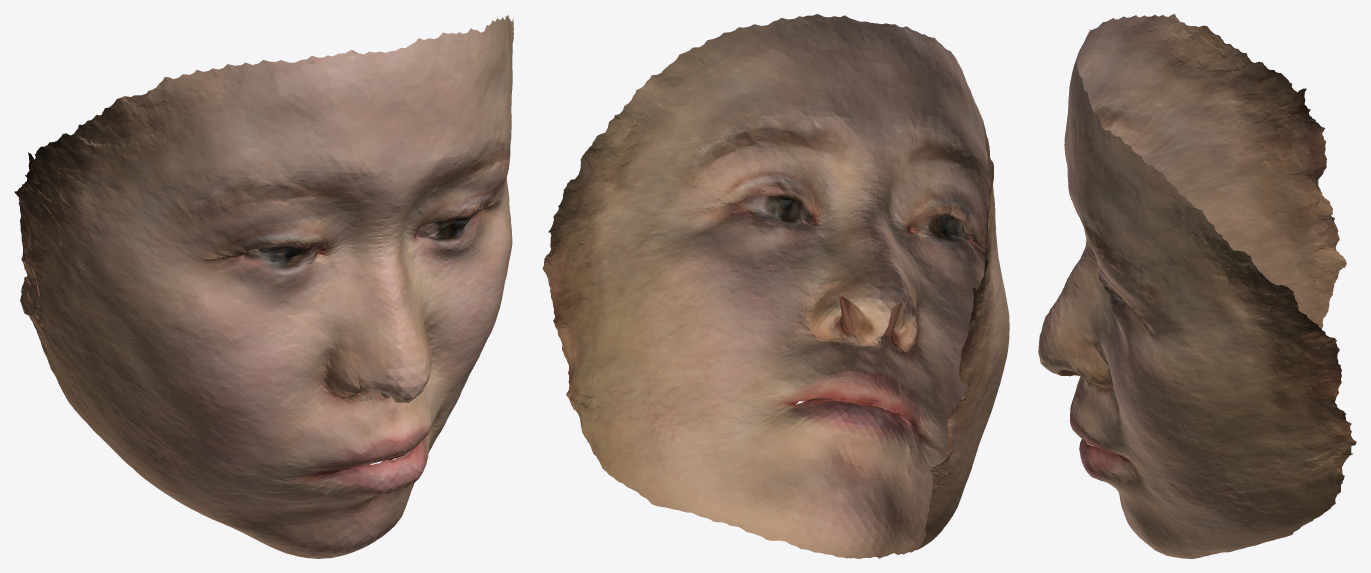
3 renders of one model, left to right at view 1: azimuth 30°, elevation 25°; view 2: azimuth 150°, elevation 25°; view 3: azimuth 270°, elevation 25°, orthographic. The views are drawn at different scales.
Size of the model in its own units: 1.44 by 1.64 by 0.9684.
